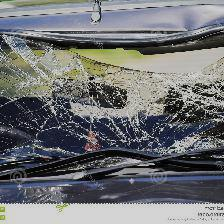glass_shatter: (4, 26, 220, 193)
